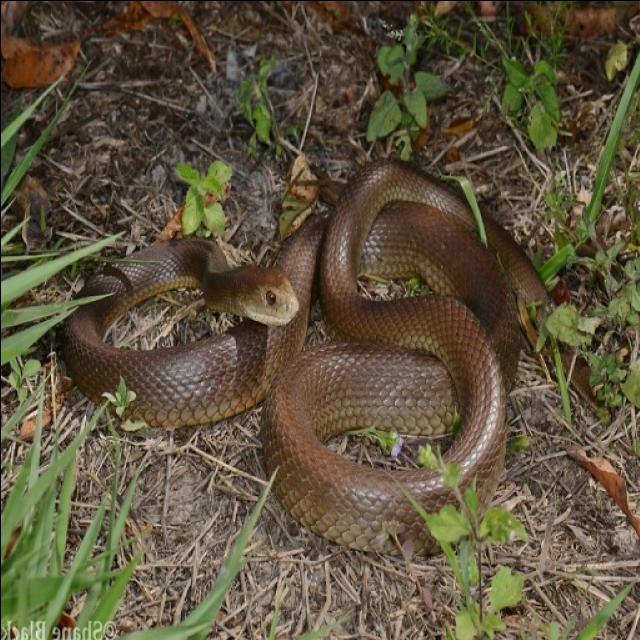snake: (60, 143, 556, 549)
